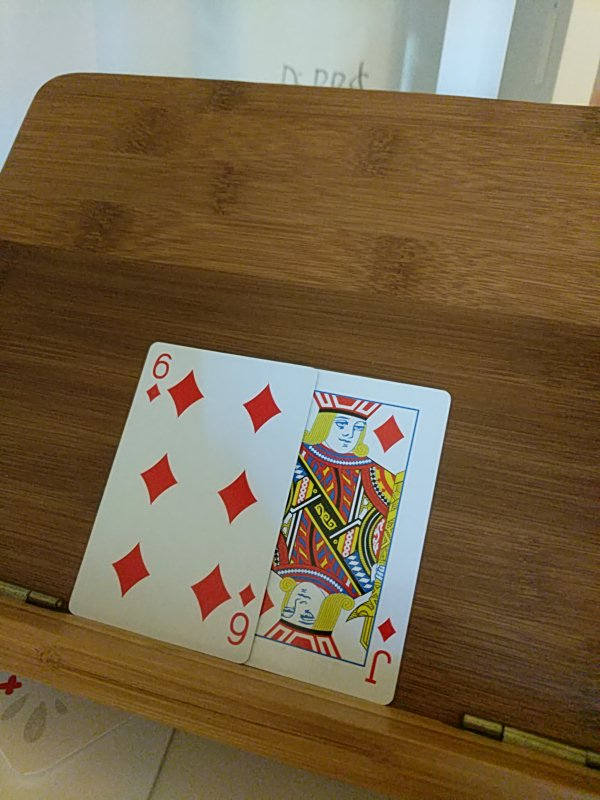Diamonds: (66, 338, 320, 663), (247, 369, 451, 707)
